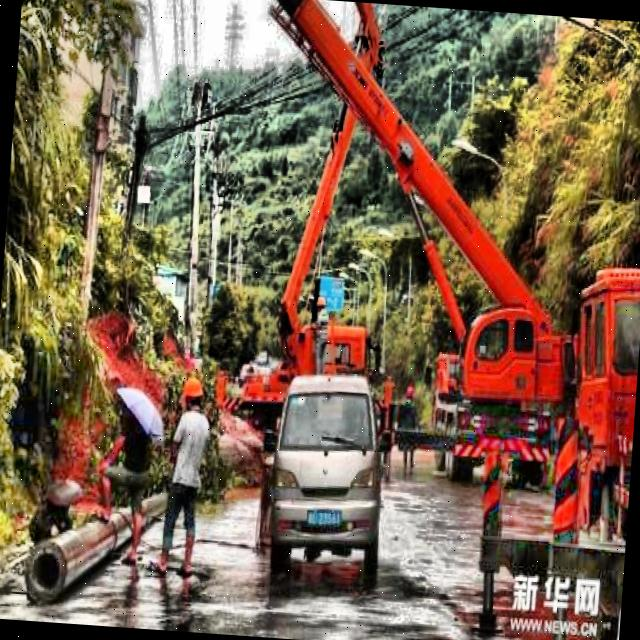helmet: (179, 373, 206, 417), (316, 293, 328, 310)
